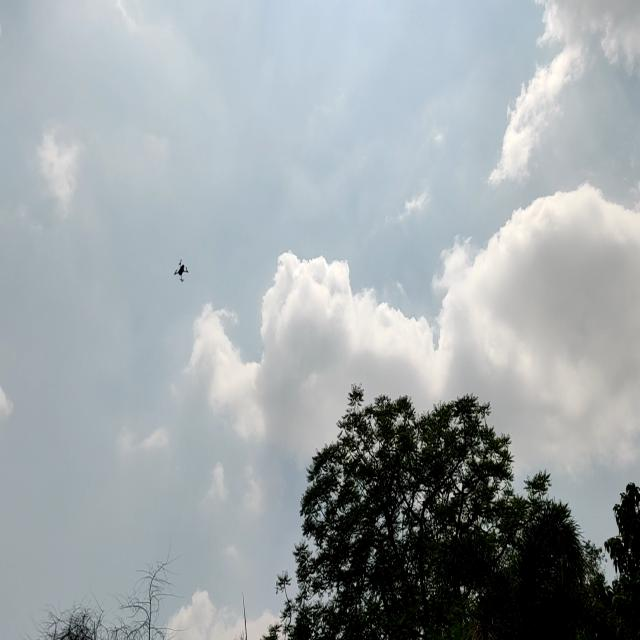drone: (169, 256, 195, 284)
